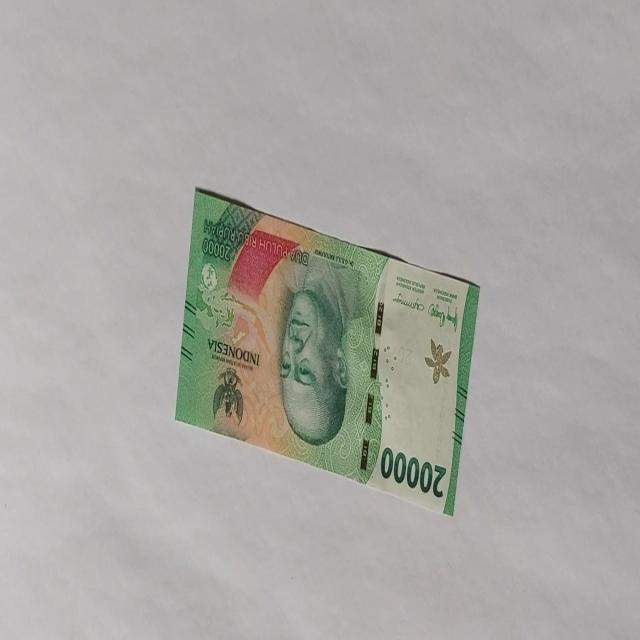dua puluh ribu rupiah: (174, 185, 481, 518)
